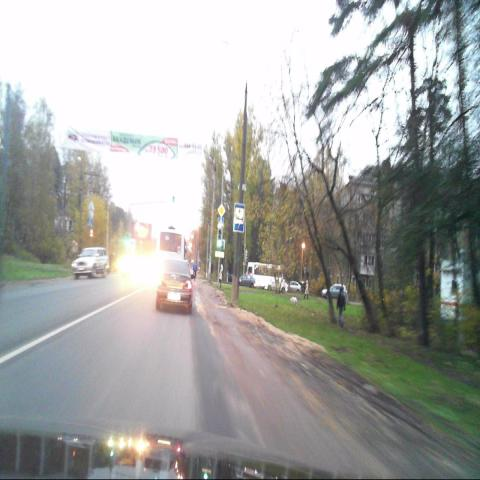7_2: (233, 202, 245, 232)
